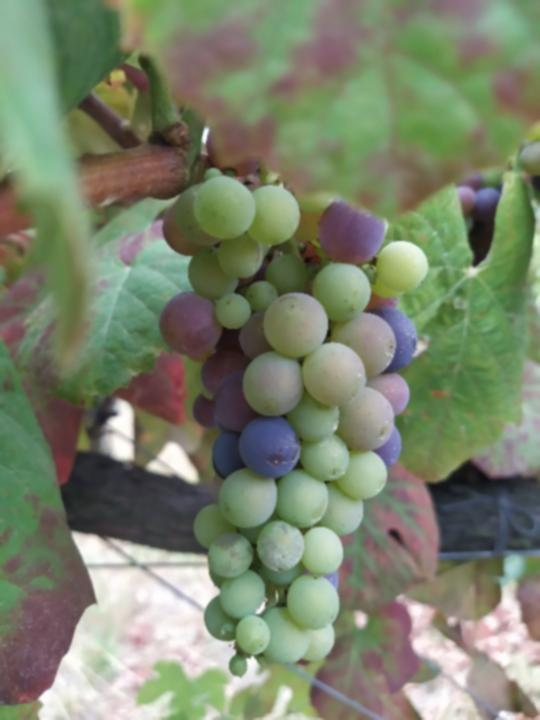grape: (157, 171, 430, 683)
